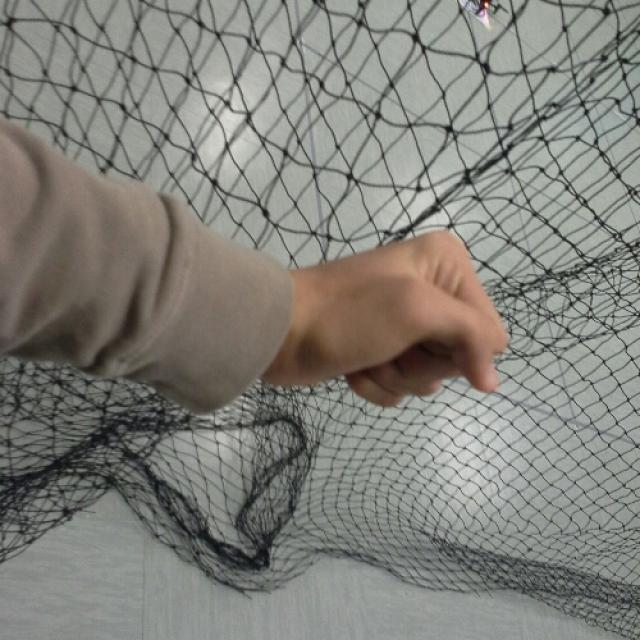rock: (328, 230, 512, 408)
